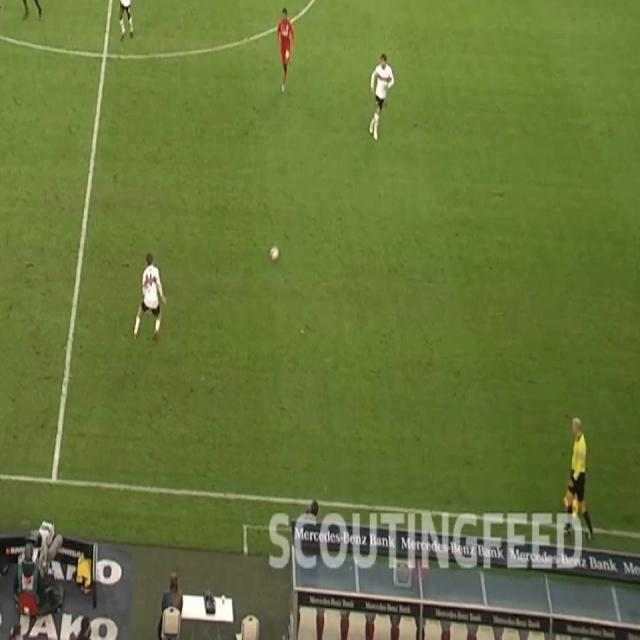ball: (268, 244, 280, 264)
